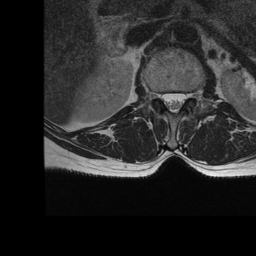CCS_normal: (170, 85, 178, 121)
LFS_stenosis: (186, 85, 194, 107)
LLS_normal: (178, 86, 186, 113)
RFS_stenosis: (153, 84, 161, 107)
RLS_normal: (161, 87, 170, 113)
